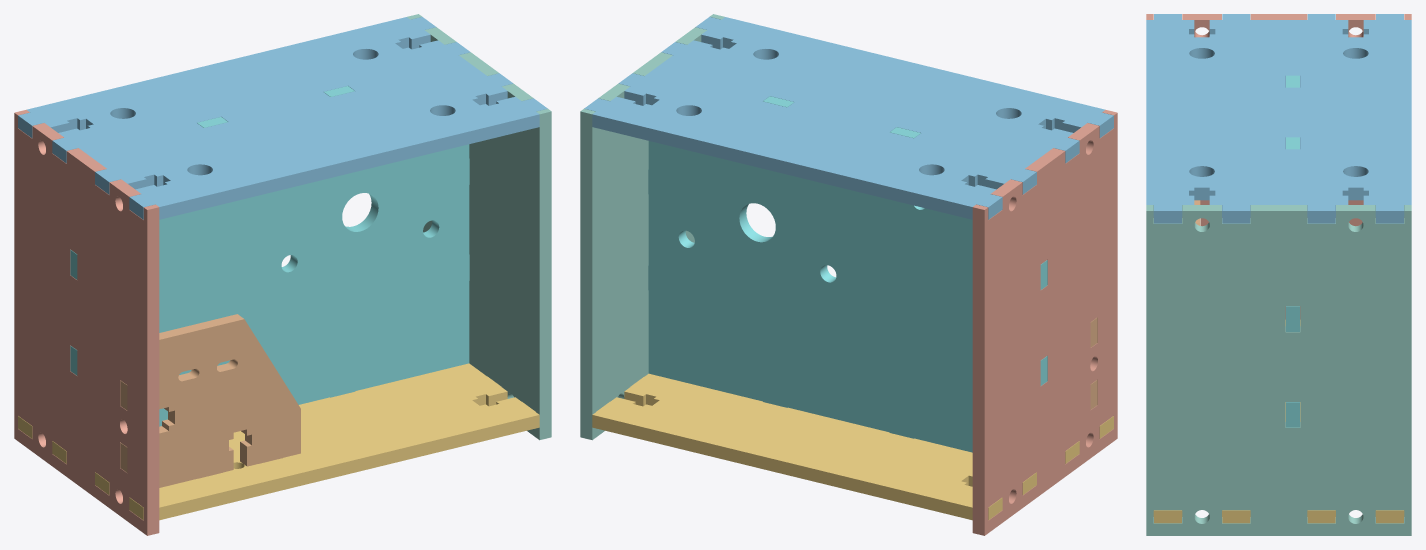
File: box-3d-assembly.glb
3 renders of one model, left to right at view 1: azimuth 30°, elevation 25°; view 2: azimuth 150°, elevation 25°; view 3: azimuth 270°, elevation 25°, orthographic.
Visible parts, largest first — view 1: 05_DIVIDER, 01_TOP, 03_LEFT, 04_RIGHT, 02_BOTTOM, 06_MICROSWITCH_BRACKET; view 2: 05_DIVIDER, 01_TOP, 03_LEFT, 02_BOTTOM, 04_RIGHT; view 3: 04_RIGHT, 01_TOP, 02_BOTTOM, 03_LEFT, 05_DIVIDER.
Boxes of the visible parts, box(x1,y1,x2,y2) form: 05_DIVIDER: box(70, 86, 469, 426); 01_TOP: box(18, 17, 547, 219); 03_LEFT: box(14, 109, 159, 535); 04_RIGHT: box(407, 14, 551, 440); 02_BOTTOM: box(18, 363, 539, 520); 06_MICROSWITCH_BRACKET: box(120, 314, 300, 487); 05_DIVIDER: box(648, 96, 1047, 452); 01_TOP: box(584, 17, 1113, 219); 03_LEFT: box(972, 109, 1117, 535); 02_BOTTOM: box(592, 373, 1113, 520); 04_RIGHT: box(580, 14, 724, 440); 04_RIGHT: box(1146, 205, 1411, 535); 01_TOP: box(1146, 14, 1411, 223); 02_BOTTOM: box(1153, 320, 1404, 523); 03_LEFT: box(1146, 14, 1411, 319); 05_DIVIDER: box(1286, 75, 1299, 427).
Size of the model in its own units: 0.1 by 0.077 by 0.057.
